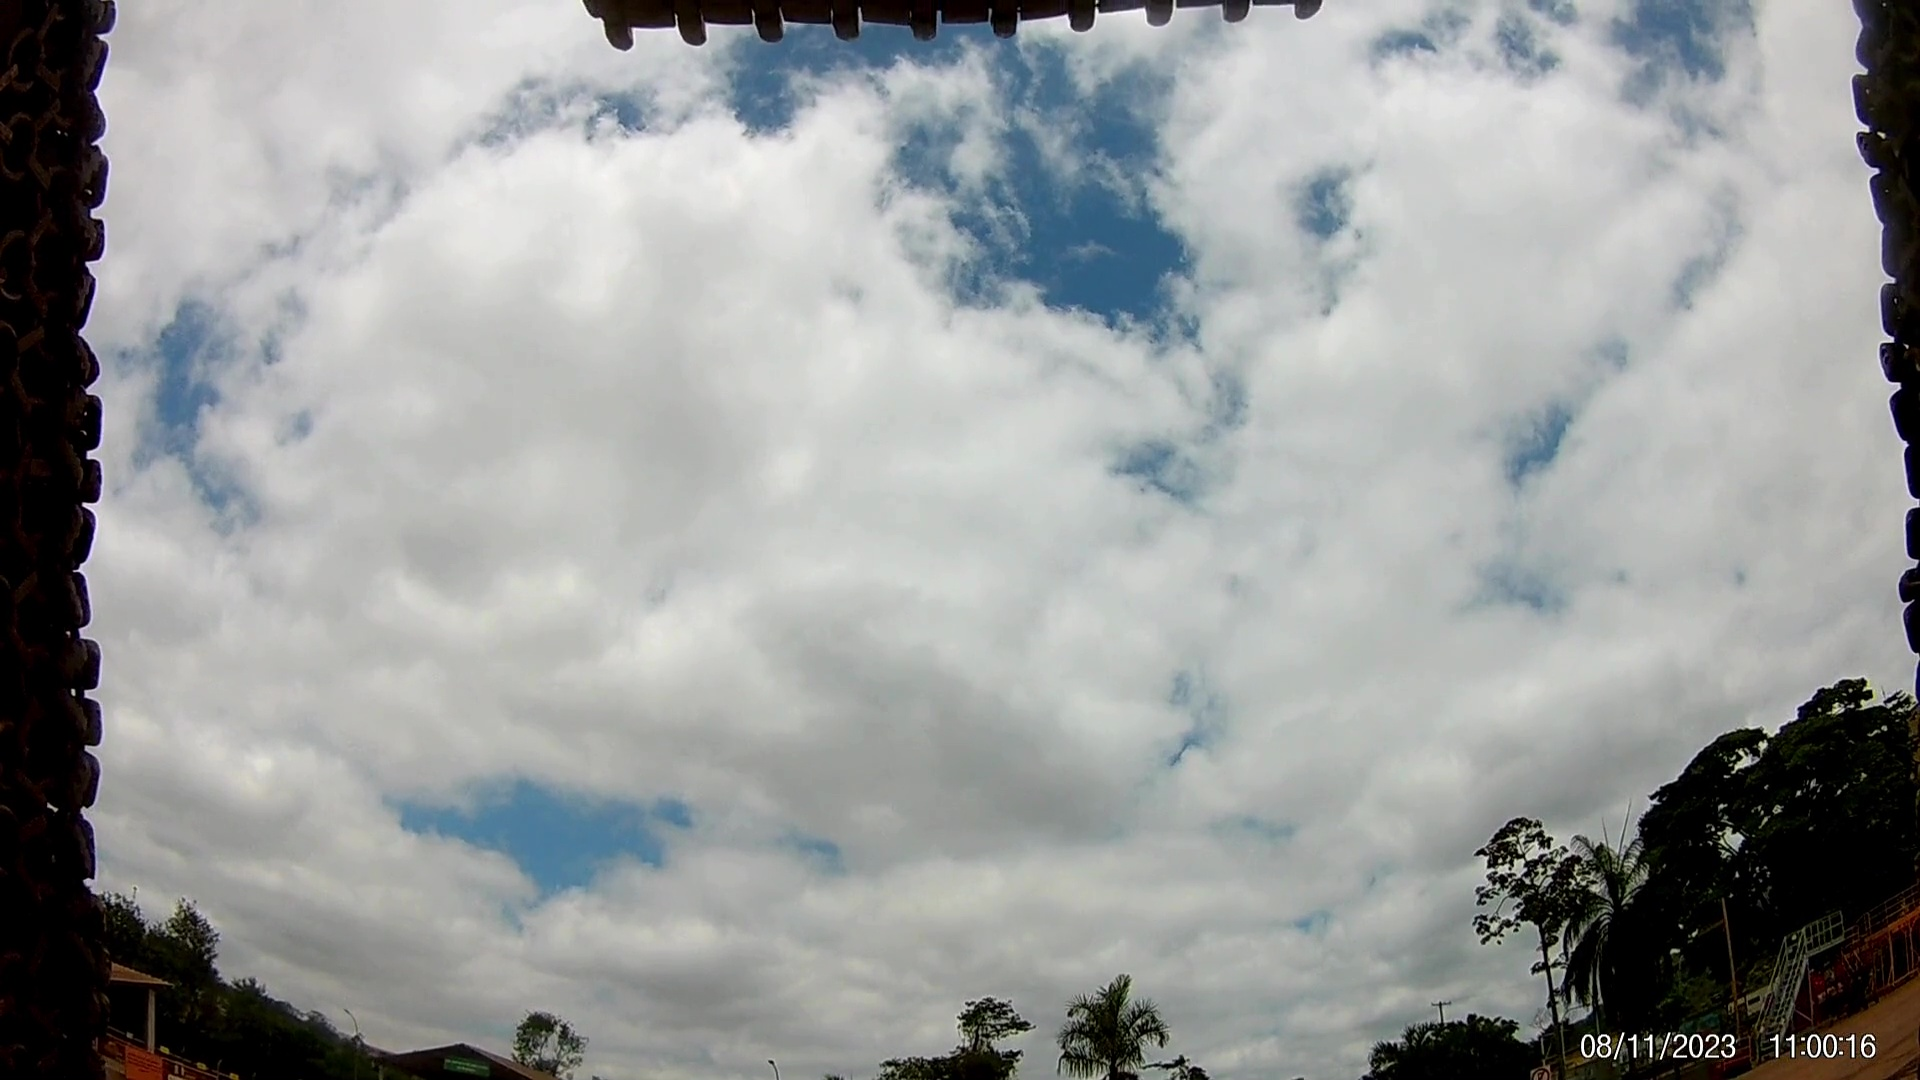FPS: (975, 1, 1047, 65), (593, 11, 654, 53), (676, 7, 717, 69), (744, 5, 806, 45), (1292, 1, 1335, 55), (1139, 1, 1192, 44), (827, 1, 876, 45), (1068, 5, 1106, 47), (906, 11, 951, 45), (1226, 1, 1254, 41)
